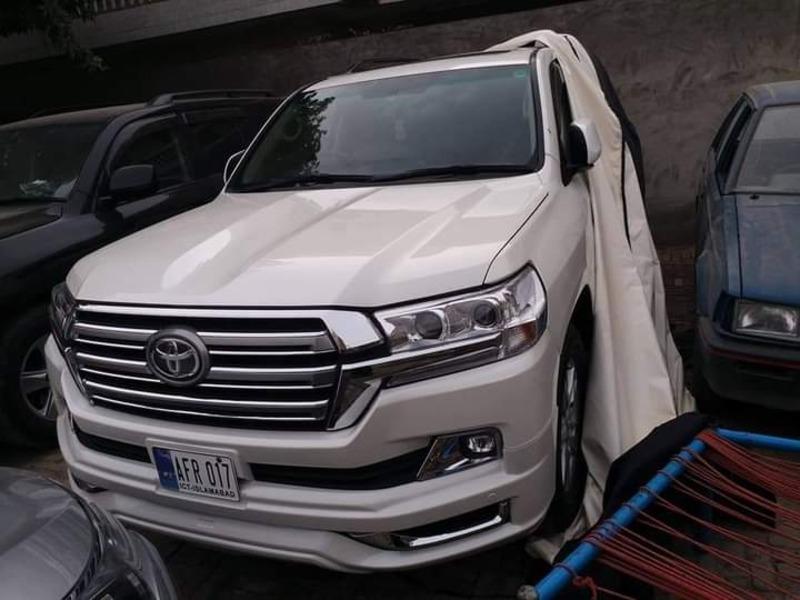License Plate: (145, 439, 244, 506)
